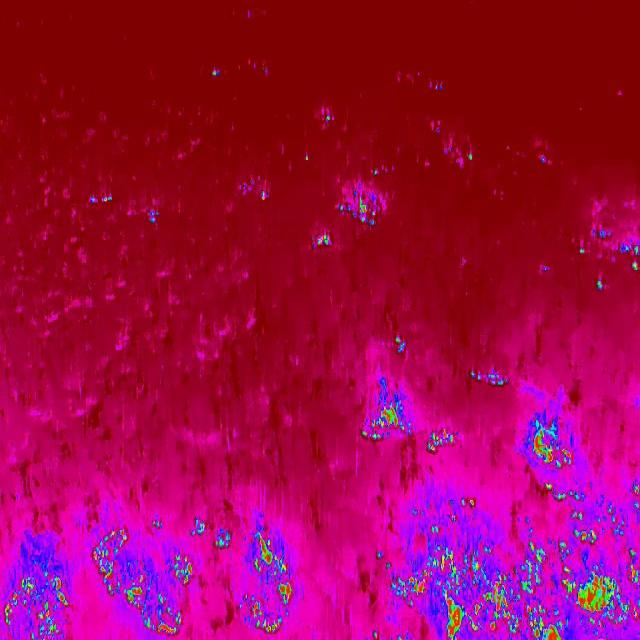fire: (365, 486, 640, 639), (85, 522, 199, 640), (225, 524, 302, 640), (0, 562, 68, 640), (314, 179, 386, 251), (356, 368, 416, 449), (575, 230, 640, 294), (516, 412, 576, 478), (424, 420, 458, 462)
